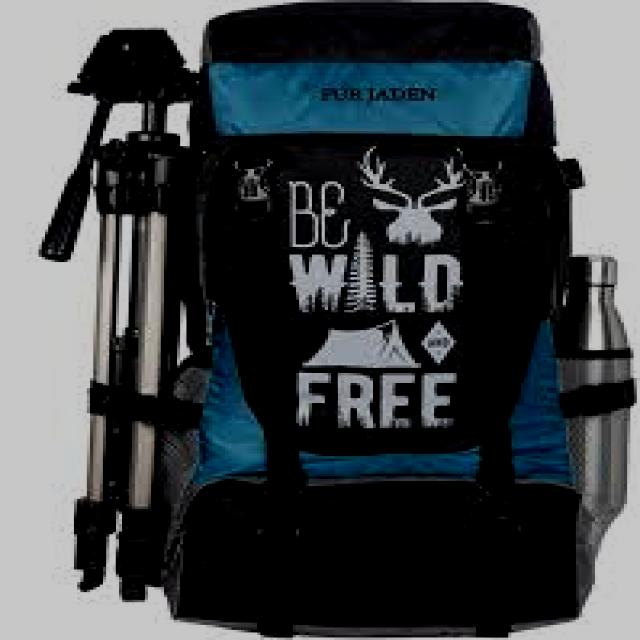backpack: (39, 1, 637, 638)
